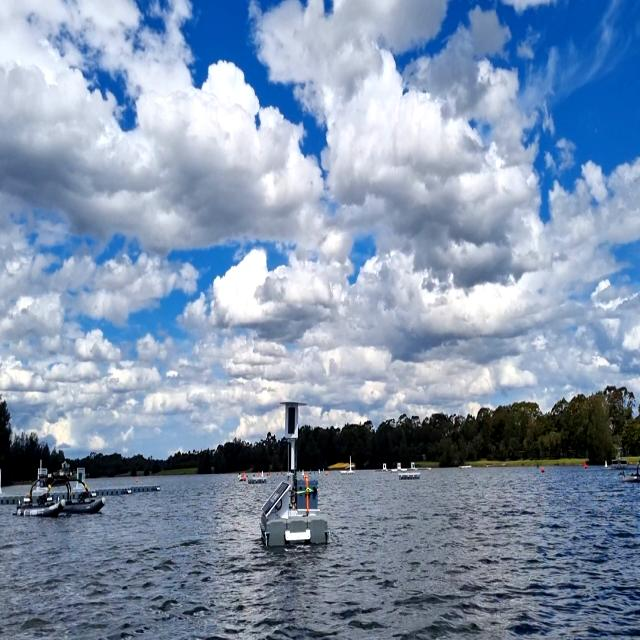led: (287, 405, 297, 437)
